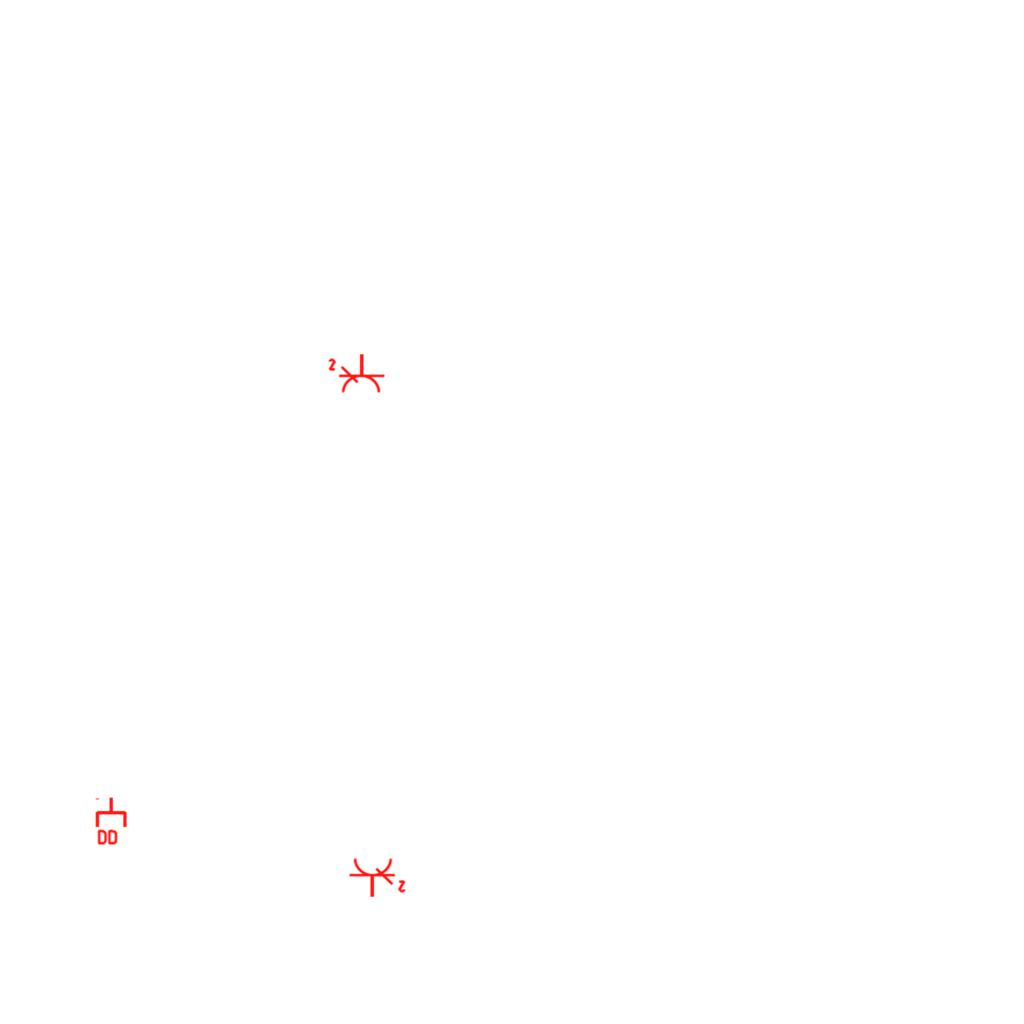Datenanschluss_zweifach: (95, 796, 129, 847)
Schukosteckdose_mehrfach: (327, 351, 387, 395), (347, 856, 407, 900)
